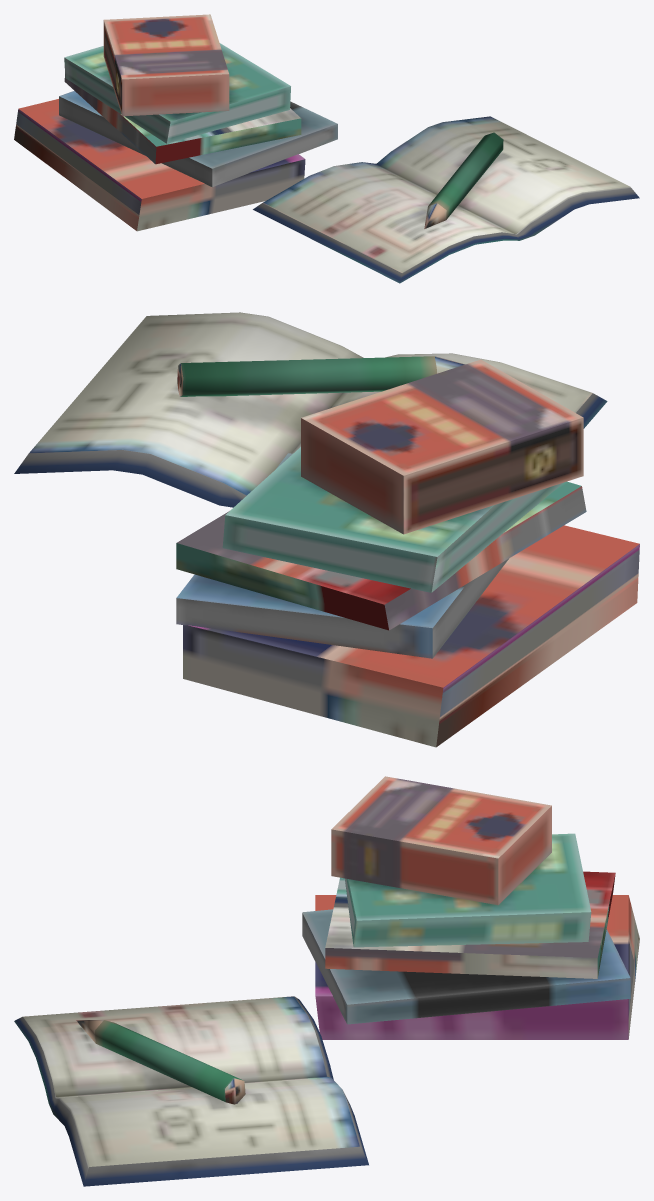
The model's file is int_oth_study.dae.
3 views of the same model, one above another, from view 1: azimuth 30°, elevation 25°; view 2: azimuth 150°, elevation 25°; view 3: azimuth 270°, elevation 25° (orthographic). The views are drawn at different scales.
Parts seen in each view (by area): view 1: int_oth_study; view 2: int_oth_study; view 3: int_oth_study.
Boxes of the visible parts, x1,y1,x2,y2 form: int_oth_study: [14, 14, 639, 283]; int_oth_study: [14, 312, 639, 747]; int_oth_study: [14, 776, 639, 1186].
Size of the model in its own units: 23.98 by 7.4 by 25.1.
1 material, 1 textured.
